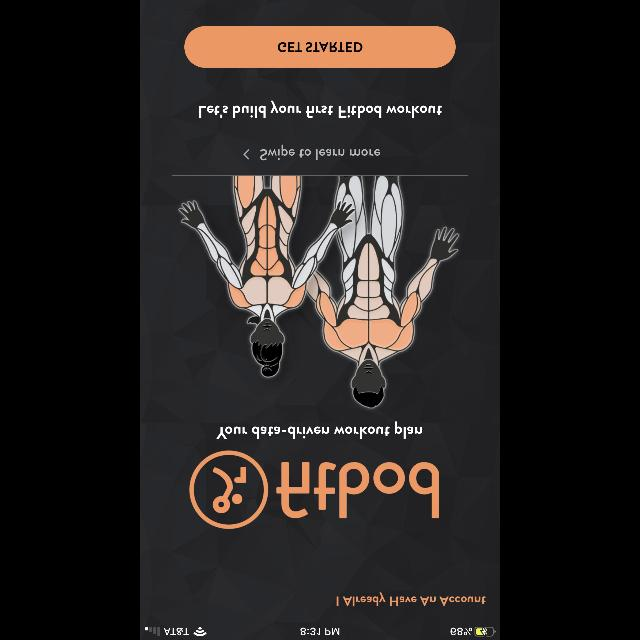icon: (243, 150, 250, 160)
image: (172, 174, 468, 410), (190, 450, 438, 530)
text: (198, 100, 442, 118), (216, 420, 422, 440), (336, 592, 486, 606), (260, 144, 380, 160)
textbutton: (184, 26, 456, 68)
uppertaskbar: (140, 626, 500, 640)
